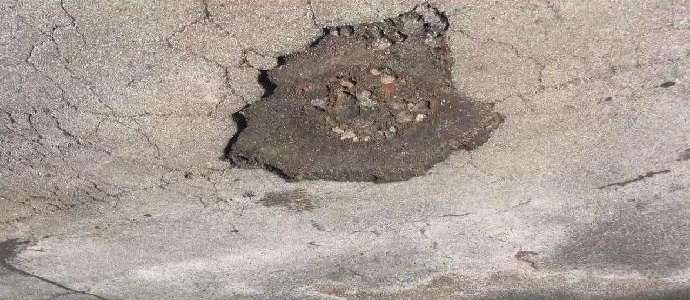pothole: (215, 4, 508, 191)
